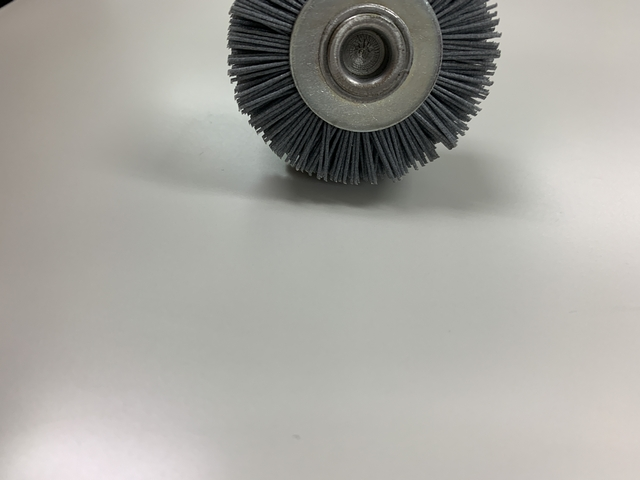Wheel Brush: (188, 1, 529, 190)
